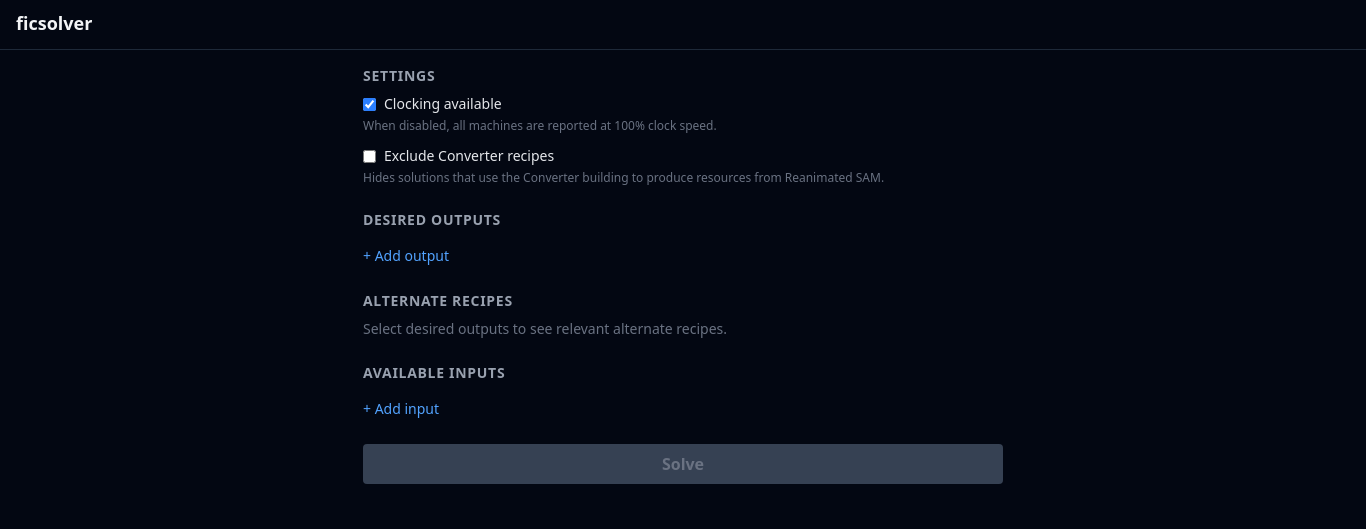
App › populates output combobox with items from API
Click the button "+ Add output".
click(406, 256)  # box [363,246,449,266]
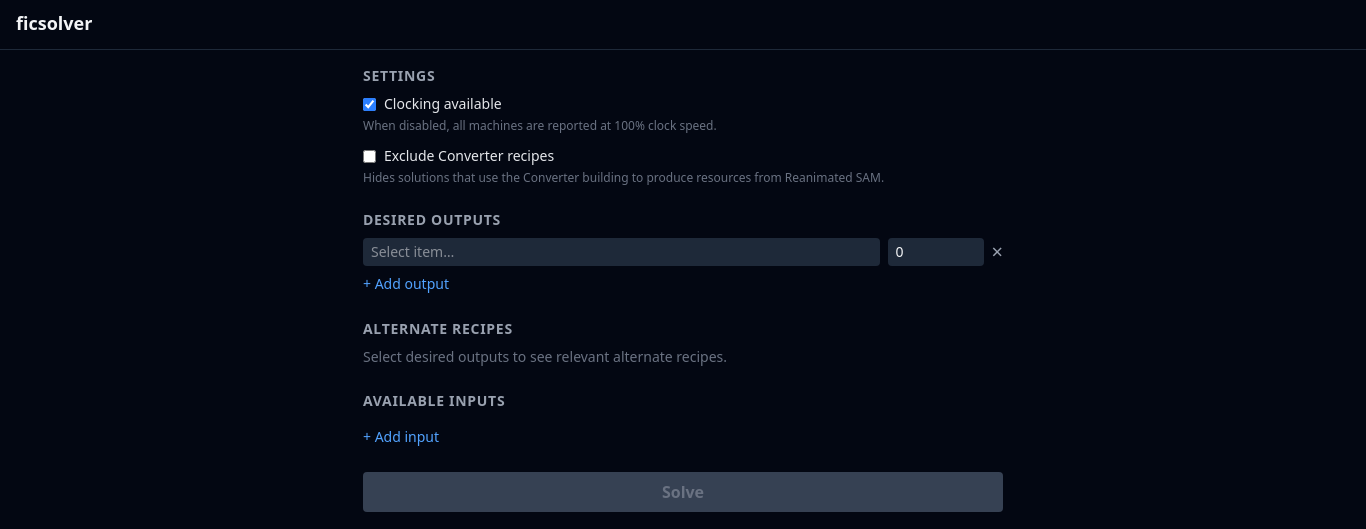
Type "ingot" into the field named "Output item".
click(621, 252); type("ingot")  # box [363,238,880,266]
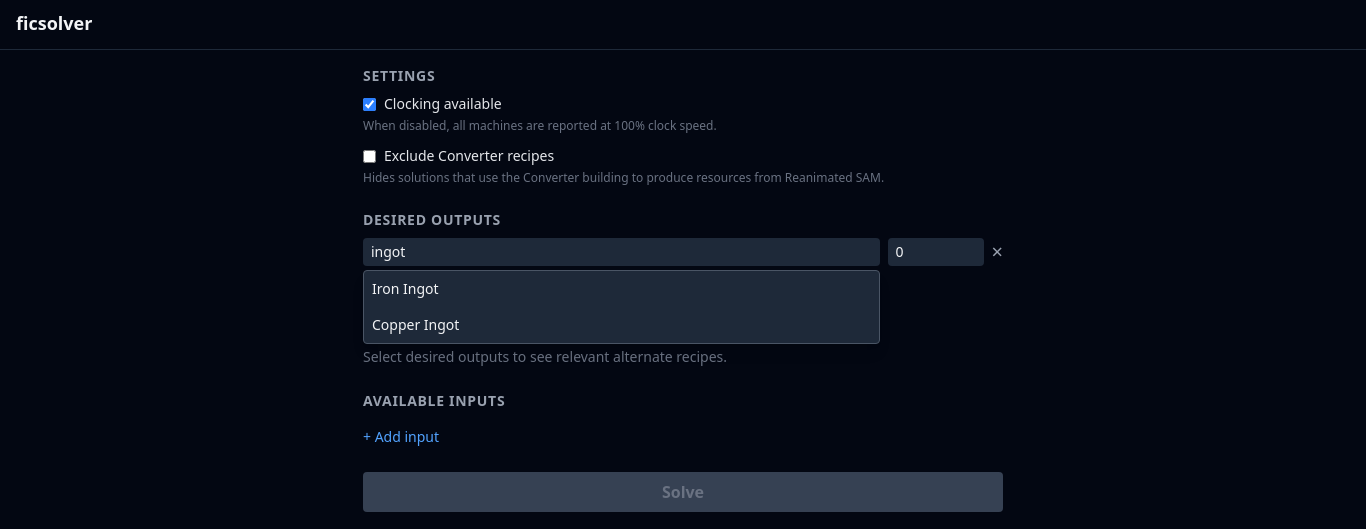
Check: the list item "Iron Ingot" is shown, box [372,279,438,298]
Check: the list item "Copper Ingot" is shown, box [372,315,459,334]
